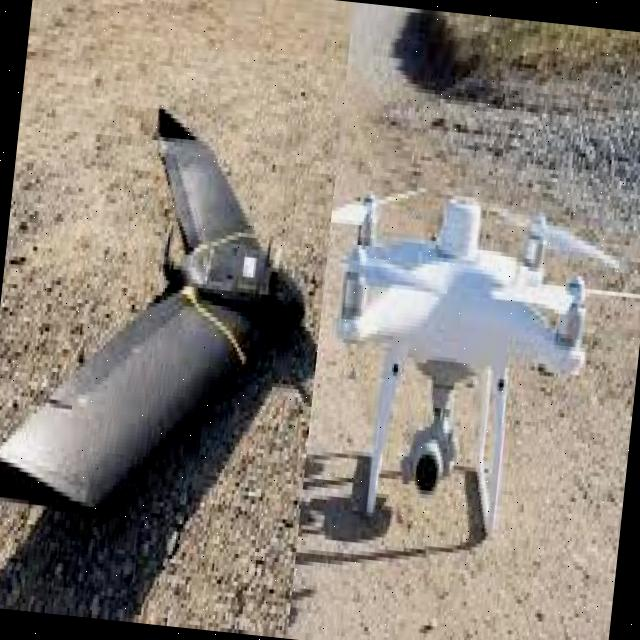drone: (292, 159, 636, 571)
